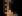helmet: (3, 0, 19, 16)
